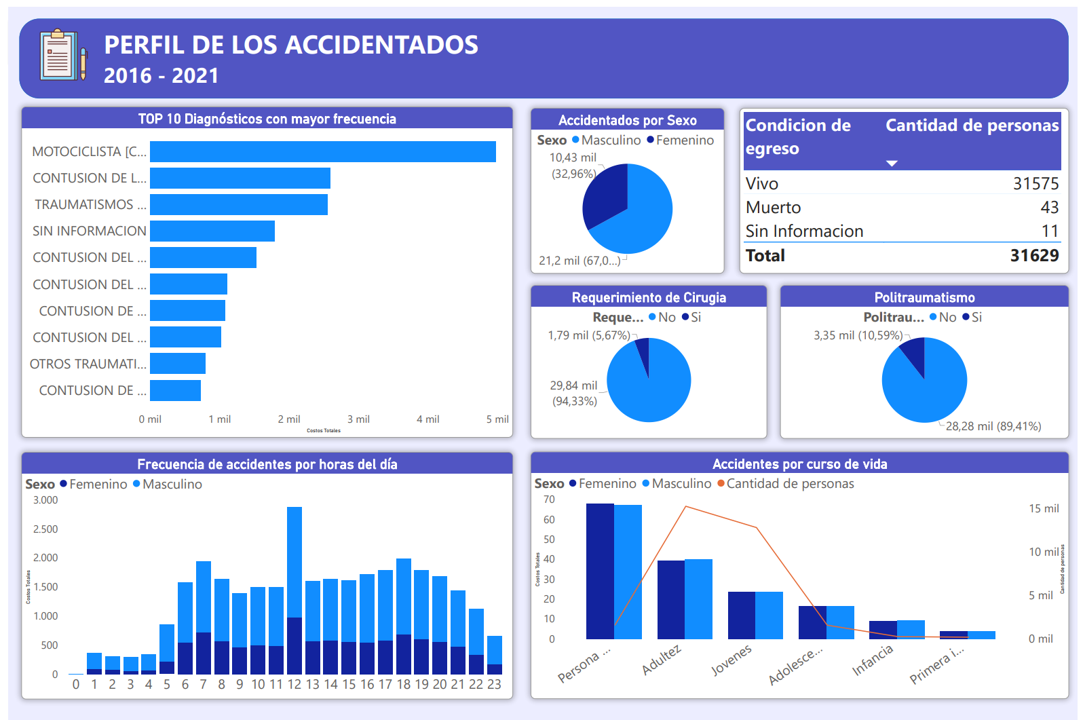

The dashboard page shown, as its layout file describes it:
{"tool":"powerbi","page":{"name":"Perfil de los accidentados","canvas":[3000,2000],"ordinal":2},"visuals":[{"type":"pieChart","title":"Accidentados por Sexo","fields":{"Category":["Tabla Costos.Sexo"],"Y":["CountNonNull(Tabla Costos.Sexo)"]},"box":[1466.7,283.3,543.3,463.3],"z":0},{"type":"shape","box":[32,32,2944,224],"z":1000},{"type":"image","box":[72,48,168,168],"z":2000},{"type":"textbox","box":[264,48,1152,192],"z":3000},{"type":"clusteredBarChart","title":"TOP 10 Diagnósticos con mayor frecuencia","fields":{"Category":["RIPS.Descripcion RIPS"],"Y":["Count(Tabla Costos.Numero)"]},"box":[37.9,279.3,1379.3,927.6],"z":4000},{"type":"lineStackedColumnComboChart","title":"Frecuencia de accidentes por horas del día","fields":{"Category":["Tabla Costos.Hora Cerrada"],"Y":["CountNonNull(Tabla Costos.Hora Cerrada)"],"Series":["Tabla Costos.Sexo"]},"box":[37.9,1248.3,1379.3,693.1],"z":5000},{"type":"lineClusteredColumnComboChart","title":"Accidentes por curso de vida","fields":{"Category":["Grupo etario.Curso de vida"],"Y":["Avg(Tabla Costos.Edad)"],"Y2":["Count(Tabla Costos.Numero)"],"Series":["Tabla Costos.Sexo"]},"box":[1466.7,1246.7,1510,693.3],"z":6000},{"type":"pieChart","title":"Requerimiento de Cirugia","fields":{"Category":["Tabla Costos.Requerimiento de cirugia"],"Y":["CountNonNull(Tabla Costos.Requerimiento de cirugia)"]},"box":[1466.7,780,663.3,430],"z":7000},{"type":"pieChart","title":"Politraumatismo","fields":{"Category":["Tabla Costos.Politraumatismo"],"Y":["CountNonNull(Tabla Costos.Politraumatismo)"]},"box":[2166.7,780,810,430],"z":8000},{"type":"tableEx","fields":{"Values":["Tabla Costos.Condicion de egreso","Count(Tabla Costos.Numero)"]},"box":[2053.3,283.3,923.3,463.3],"z":9000}]}

Visuals, with their boxes in screenshot pixels (x1, y1, x2, y2), scaled from the page's 3000x2000 canvas onto the 1083x720 screenshot:
"Accidentados por Sexo" pieChart: crop(529, 102, 726, 269)
shape: crop(12, 12, 1074, 92)
image: crop(26, 17, 87, 78)
textbox: crop(95, 17, 511, 86)
"TOP 10 Diagnósticos con mayor frecuencia" clusteredBarChart: crop(14, 101, 512, 434)
"Frecuencia de accidentes por horas del día" lineStackedColumnComboChart: crop(14, 449, 512, 699)
"Accidentes por curso de vida" lineClusteredColumnComboChart: crop(529, 449, 1075, 698)
"Requerimiento de Cirugia" pieChart: crop(529, 281, 769, 436)
"Politraumatismo" pieChart: crop(782, 281, 1075, 436)
tableEx - Tabla Costos.Condicion de egreso x Count(Tabla Costos.Numero): crop(741, 102, 1075, 269)
